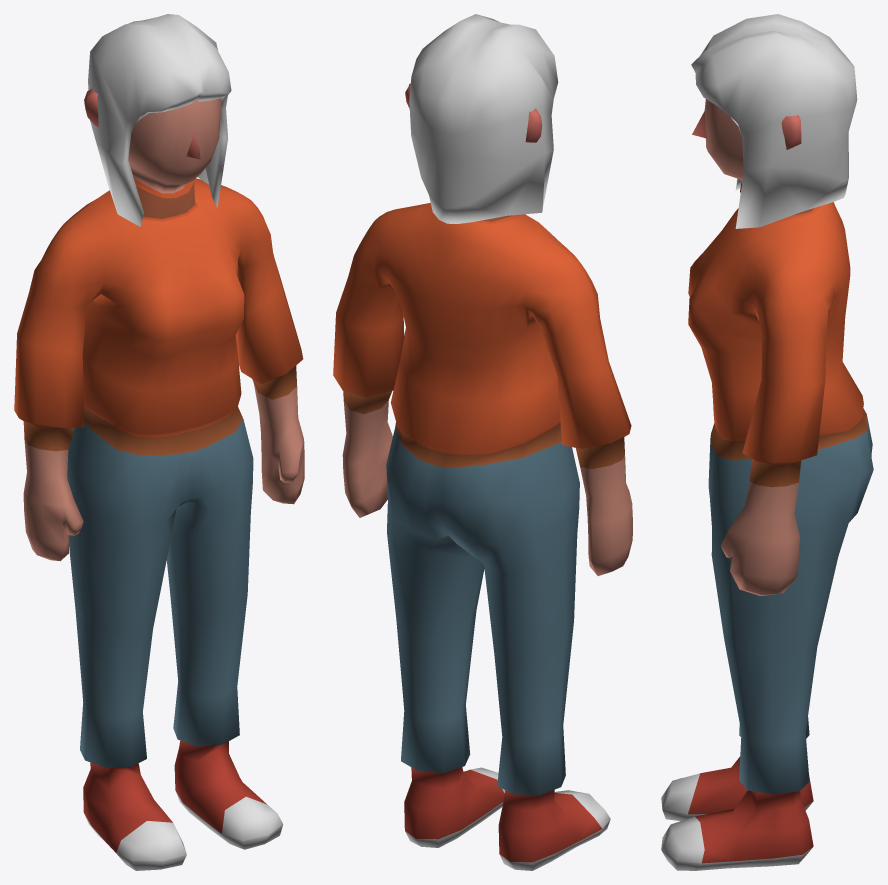
The model's file is CHAR_Student.fbx.
The picture shows the model from 3 angles, left to right: view 1: azimuth 30°, elevation 25°; view 2: azimuth 150°, elevation 25°; view 3: azimuth 270°, elevation 25°; orthographic projection. The views are drawn at different scales.
Visible parts, largest first — view 1: Character_Student, Student_Hair; view 2: Character_Student, Student_Hair; view 3: Character_Student, Student_Hair.
Part boxes in pixels (x1=…): Character_Student: x1=14, y1=88, x2=304, y2=870; Student_Hair: x1=88, y1=14, x2=231, y2=226; Character_Student: x1=333, y1=83, x2=632, y2=870; Student_Hair: x1=409, y1=14, x2=558, y2=223; Character_Student: x1=661, y1=99, x2=873, y2=870; Student_Hair: x1=691, y1=14, x2=857, y2=228.
Bounding box in the file's own units: 0.6793 × 1.83 × 0.4352.
